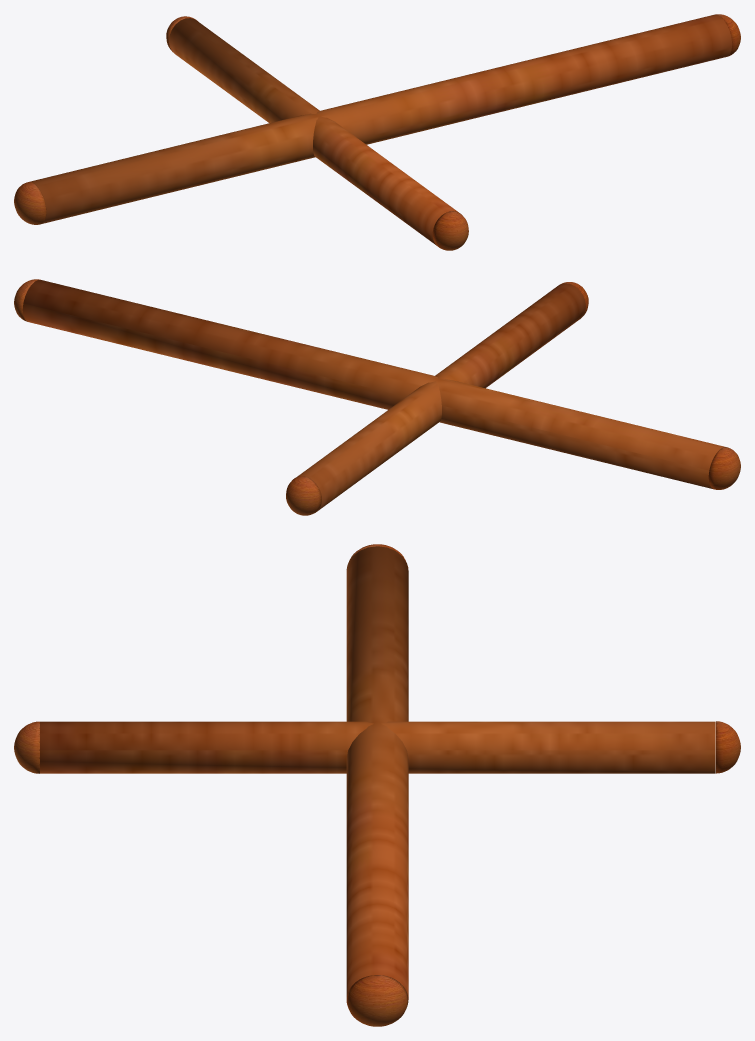
The model's file is Maronete Body.fbx.
3 views of the same model, one above another, from view 1: azimuth 30°, elevation 25°; view 2: azimuth 150°, elevation 25°; view 3: azimuth 270°, elevation 25° (orthographic). The views are drawn at different scales.
Parts seen in each view (by area): view 1: pasted__pasted__polySurface2_pasted__group5_group6; view 2: pasted__pasted__polySurface2_pasted__group5_group6; view 3: pasted__pasted__polySurface2_pasted__group5_group6.
Part boxes in pixels (bbox=[...]): pasted__pasted__polySurface2_pasted__group5_group6: bbox=[14, 14, 740, 250]; pasted__pasted__polySurface2_pasted__group5_group6: bbox=[14, 279, 740, 515]; pasted__pasted__polySurface2_pasted__group5_group6: bbox=[14, 544, 740, 1026].
Bounding box in the file's own units: 31.46 × 1.63 × 21.5.
1 material, 1 textured.
